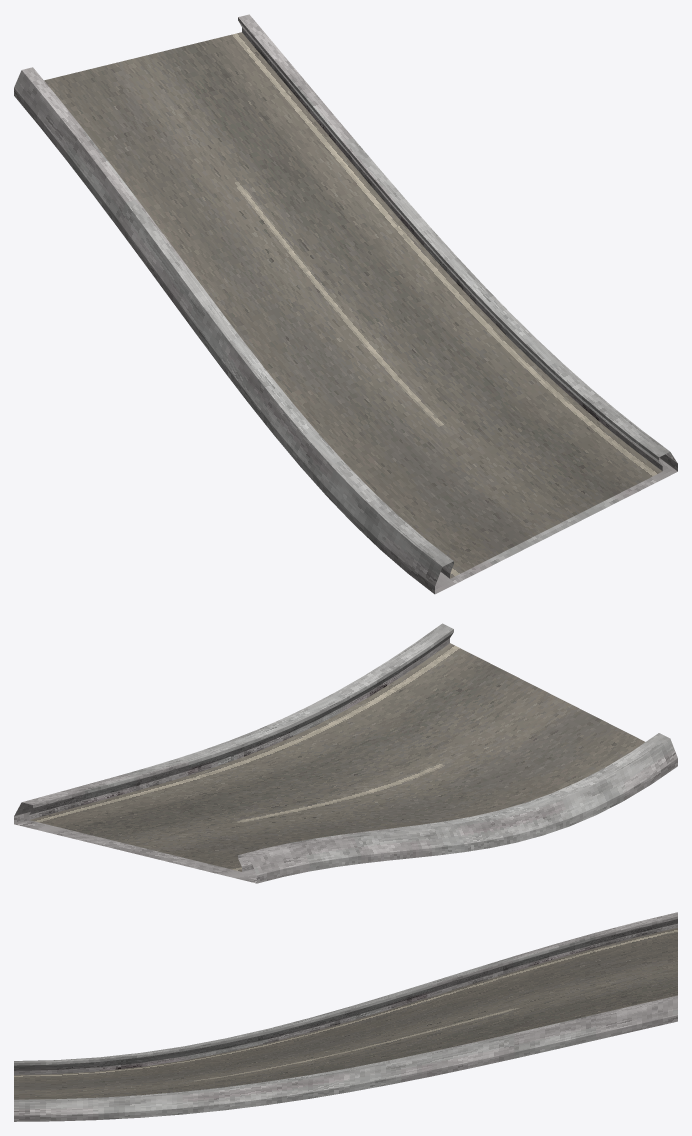
Rendered from road-Straight-HalfBankedLeft-BiSlopeUp-Up3-Center-Size3.glb.
The picture shows the model from 3 angles, top to bottom: view 1: azimuth 30°, elevation 25°; view 2: azimuth 150°, elevation 25°; view 3: azimuth 270°, elevation 25°; orthographic projection. The views are drawn at different scales.
Parts seen in each view (by area): view 1: road-Straight-HalfBankedLeft-BiSlopeUp-Up3-Center-Size3; view 2: road-Straight-HalfBankedLeft-BiSlopeUp-Up3-Center-Size3; view 3: road-Straight-HalfBankedLeft-BiSlopeUp-Up3-Center-Size3.
Part boxes in pixels (<box>): road-Straight-HalfBankedLeft-BiSlopeUp-Up3-Center-Size3: <box>14,14,677,594</box>; road-Straight-HalfBankedLeft-BiSlopeUp-Up3-Center-Size3: <box>14,623,677,883</box>; road-Straight-HalfBankedLeft-BiSlopeUp-Up3-Center-Size3: <box>14,912,677,1121</box>.
Size of the model in its own units: 1 by 0.8437 by 3.
Materials: 2 (2 with a texture image).
